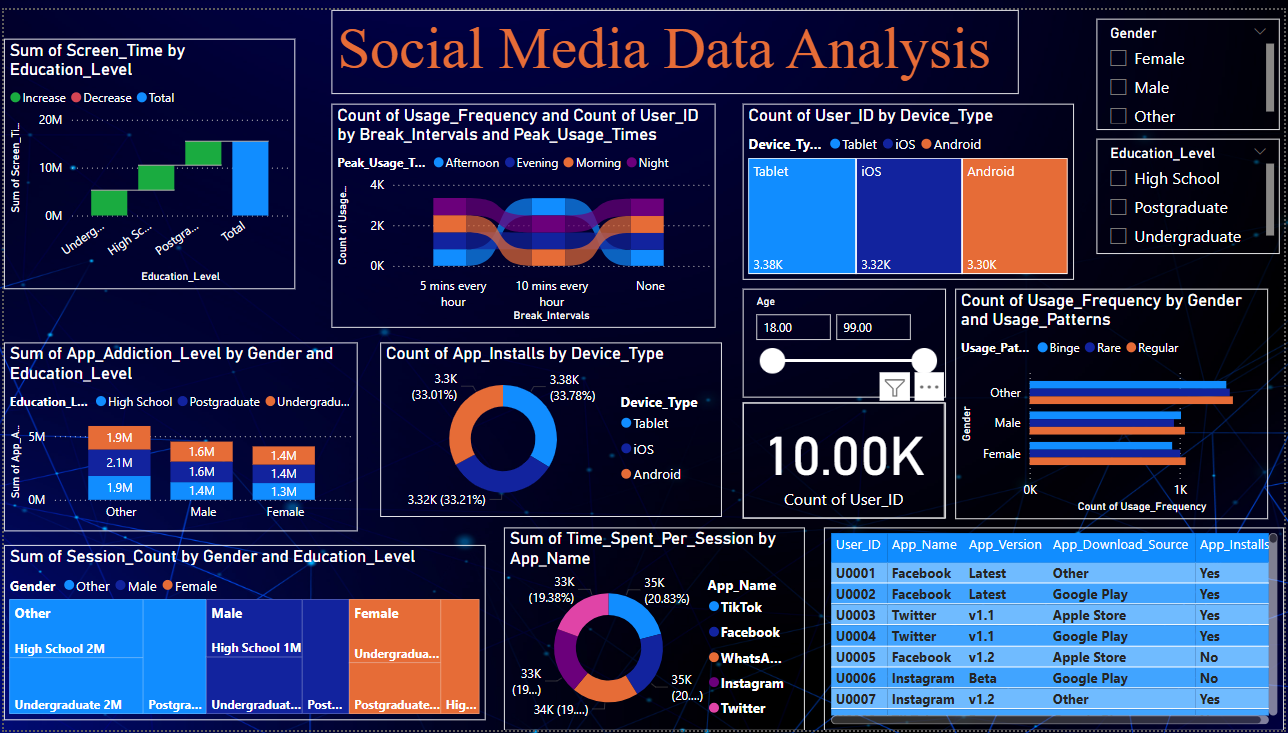

The dashboard page shown, as its layout file describes it:
{"tool":"powerbi","page":{"name":"Page 3","canvas":[1280,720],"ordinal":2},"visuals":[{"type":"textbox","box":[327.5,0,687.5,83.8],"z":0},{"type":"donutChart","fields":{"Y":["CountNonNull(Social_Media_App_Usage_India.App_Installs)"],"Category":["Social_Media_App_Usage_India.Device_Type"]},"box":[375.7,332.9,341.4,174.3],"z":1000},{"type":"columnChart","fields":{"Category":["Social_Media_App_Usage_India.Gender"],"Y":["Sum(Social_Media_App_Usage_India.App_Addiction_Level)"],"Series":["Social_Media_App_Usage_India.Education_Level"]},"box":[0,332.5,353.8,188.8],"z":2000},{"type":"treemap","fields":{"Group":["Social_Media_App_Usage_India.Device_Type"],"Values":["CountNonNull(Social_Media_App_Usage_India.User_ID)"]},"box":[738.8,93.8,331.2,176.2],"z":3000},{"type":"tableEx","fields":{"Values":["Social_Media_App_Usage_India.User_ID","Social_Media_App_Usage_India.App_Name","Social_Media_App_Usage_India.App_Version","Social_Media_App_Usage_India.App_Download_Source","Social_Media_App_Usage_India.App_Installs"]},"box":[820.5,517.3,459.8,203],"z":4000},{"type":"waterfallChart","fields":{"Category":["Social_Media_App_Usage_India.Education_Level"],"Y":["Sum(Social_Media_App_Usage_India.Screen_Time)"]},"box":[0,28.8,291.2,250],"z":5000},{"type":"treemap","fields":{"Group":["Social_Media_App_Usage_India.Gender"],"Details":["Social_Media_App_Usage_India.Education_Level"],"Values":["Sum(Social_Media_App_Usage_India.Session_Count)"]},"box":[0,535.6,481.8,174.9],"z":6000},{"type":"donutChart","fields":{"Category":["Social_Media_App_Usage_India.App_Name"],"Y":["Sum(Social_Media_App_Usage_India.Time_Spent_Per_Session)"]},"box":[500.1,517.3,300.8,203],"z":7000},{"type":"clusteredBarChart","fields":{"Category":["Social_Media_App_Usage_India.Gender"],"Series":["Social_Media_App_Usage_India.Usage_Patterns"],"Y":["CountNonNull(Social_Media_App_Usage_India.Usage_Frequency)"]},"box":[951.4,278.6,312.9,230],"z":8000},{"type":"ribbonChart","fields":{"Category":["Social_Media_App_Usage_India.Break_Intervals"],"Series":["Social_Media_App_Usage_India.Peak_Usage_Times"],"Y":["CountNonNull(Social_Media_App_Usage_India.Usage_Frequency)"]},"box":[327.1,94.3,384.3,224.3],"z":9000},{"type":"card","fields":{"Values":["Count(Social_Media_App_Usage_India.User_ID)"]},"box":[738.6,392.5,203,116.2],"z":10000},{"type":"slicer","fields":{"Values":["Social_Media_App_Usage_India.Gender"]},"box":[1092,8.6,183.4,111.3],"z":11000},{"type":"slicer","fields":{"Values":["Social_Media_App_Usage_India.Education_Level"]},"box":[1092,128.4,183.4,114.9],"z":12000},{"type":"slicer","fields":{"Values":["Social_Media_App_Usage_India.Age"]},"box":[738.6,278.8,203,108.8],"z":13000}]}

Visuals, with their boxes in screenshot pixels (x1, y1, x2, y2), scaled from the page's 1280x720 canvas onto the 1288x733 screenshot:
textbox: (left=330, top=0, right=1021, bottom=85)
donutChart - CountNonNull(Social_Media_App_Usage_India.App_Installs) x Social_Media_App_Usage_India.Device_Type: (left=378, top=339, right=722, bottom=516)
columnChart - Social_Media_App_Usage_India.Gender x Sum(Social_Media_App_Usage_India.App_Addiction_Level): (left=0, top=339, right=356, bottom=531)
treemap - Social_Media_App_Usage_India.Device_Type x CountNonNull(Social_Media_App_Usage_India.User_ID): (left=743, top=95, right=1077, bottom=275)
tableEx - Social_Media_App_Usage_India.User_ID x Social_Media_App_Usage_India.App_Name: (left=826, top=527, right=1287, bottom=732)
waterfallChart - Social_Media_App_Usage_India.Education_Level x Sum(Social_Media_App_Usage_India.Screen_Time): (left=0, top=29, right=293, bottom=284)
treemap - Social_Media_App_Usage_India.Gender x Social_Media_App_Usage_India.Education_Level: (left=0, top=545, right=485, bottom=723)
donutChart - Social_Media_App_Usage_India.App_Name x Sum(Social_Media_App_Usage_India.Time_Spent_Per_Session): (left=503, top=527, right=806, bottom=732)
clusteredBarChart - Social_Media_App_Usage_India.Gender x Social_Media_App_Usage_India.Usage_Patterns: (left=957, top=284, right=1272, bottom=518)
ribbonChart - Social_Media_App_Usage_India.Break_Intervals x Social_Media_App_Usage_India.Peak_Usage_Times: (left=329, top=96, right=716, bottom=324)
card - Count(Social_Media_App_Usage_India.User_ID): (left=743, top=400, right=947, bottom=518)
slicer - Social_Media_App_Usage_India.Gender: (left=1099, top=9, right=1283, bottom=122)
slicer - Social_Media_App_Usage_India.Education_Level: (left=1099, top=131, right=1283, bottom=248)
slicer - Social_Media_App_Usage_India.Age: (left=743, top=284, right=947, bottom=395)
